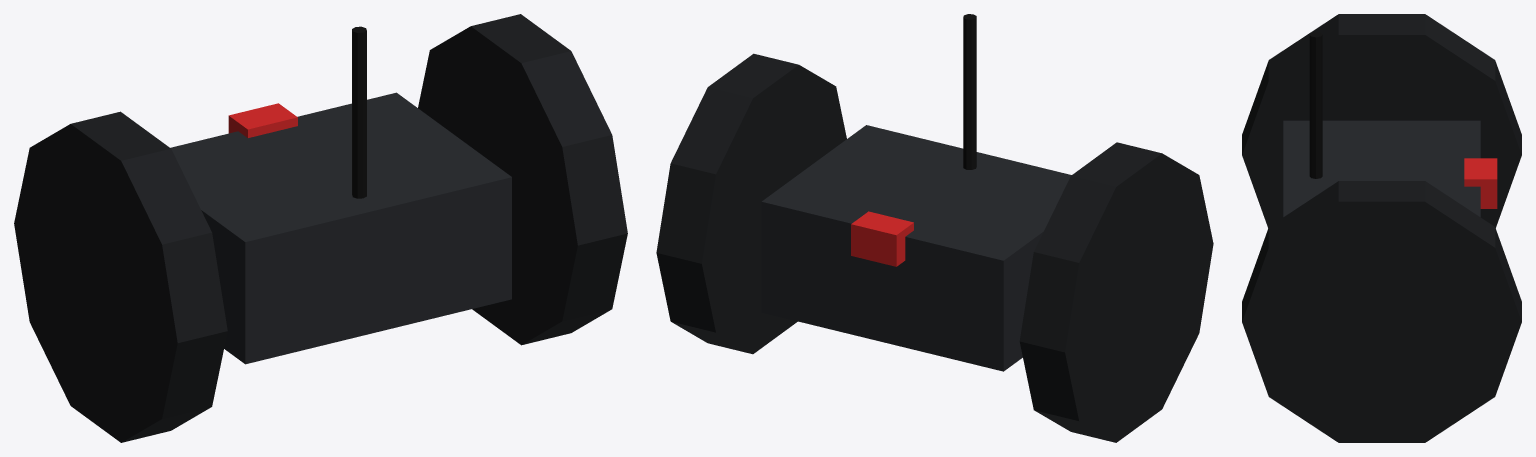
File: drone.glb
3 views of the same model, side by side, from view 1: azimuth 30°, elevation 25°; view 2: azimuth 150°, elevation 25°; view 3: azimuth 270°, elevation 25° (orthographic). The views are drawn at different scales.
Visible parts, largest first — view 1: body, body_glow; view 2: body, body_glow; view 3: body, body_glow.
Boxes of the visible parts, x1,y1,x2,y2 form: body: (14, 14, 627, 442); body_glow: (228, 103, 297, 137); body: (656, 14, 1213, 442); body_glow: (851, 211, 913, 266); body: (1242, 14, 1521, 442); body_glow: (1464, 158, 1497, 208).
Bounding box in the file's own units: 0.27 × 0.2108 × 0.17.
